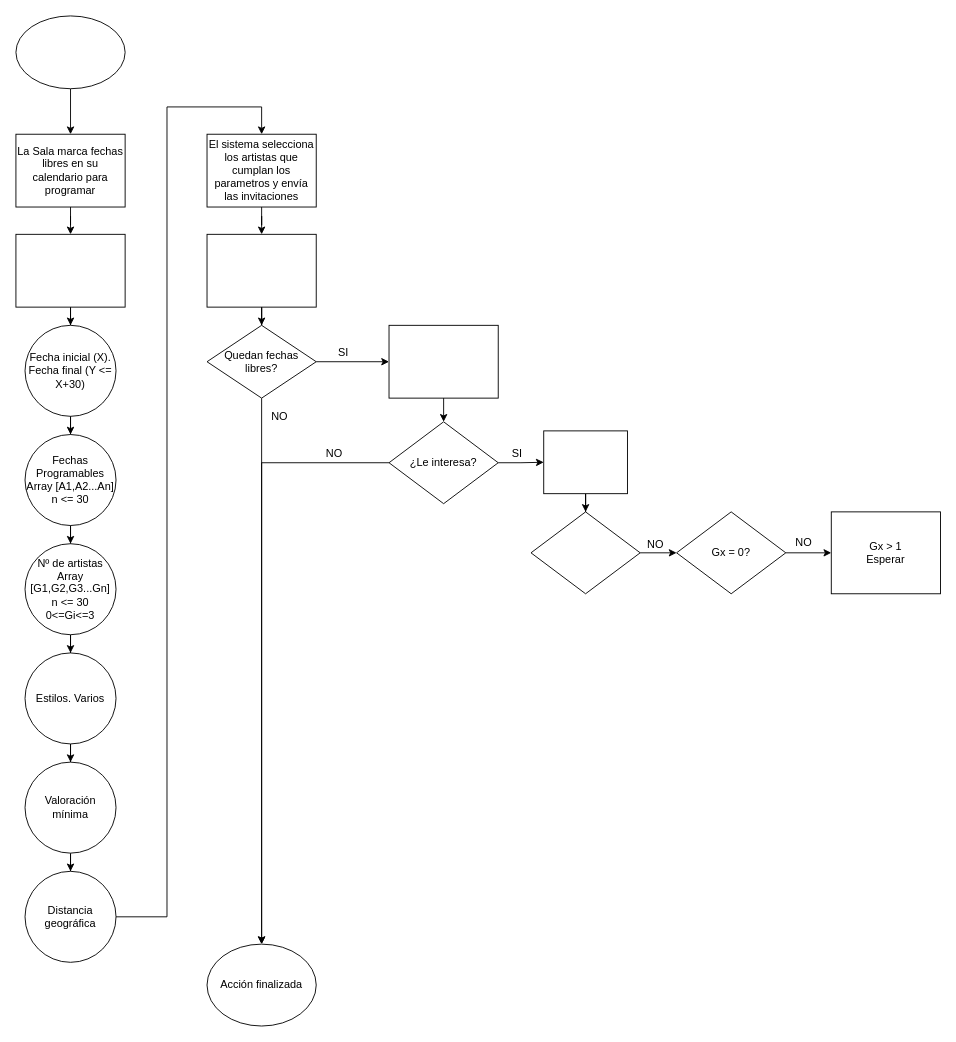
Image size: 956x1042. Some labels were removed from this diagram. Each missing label, with the centre of its shape:
Consulta condiciones: the point at 443,361
Contratación Expréx: the point at 70,52
El artista recibe la invitación y consulta condiciones: the point at 261,270
Gx = 1?: the point at 585,552
Selecciona fecha Ax: the point at 585,462
Selecciona los parametros para enviar invitaciones: the point at 70,270
